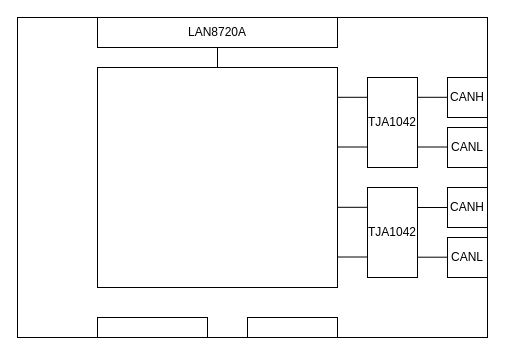
Some shapes in this 505 by 355 pixel diagram are drawn without their labels. Here are the shapes that lost their labels. From the top down, the centre of each, then its label:
At [217,177]: "STM32H750VBT6".
At [152,327]: "25M".
At [292,327]: "32.768Khz".
